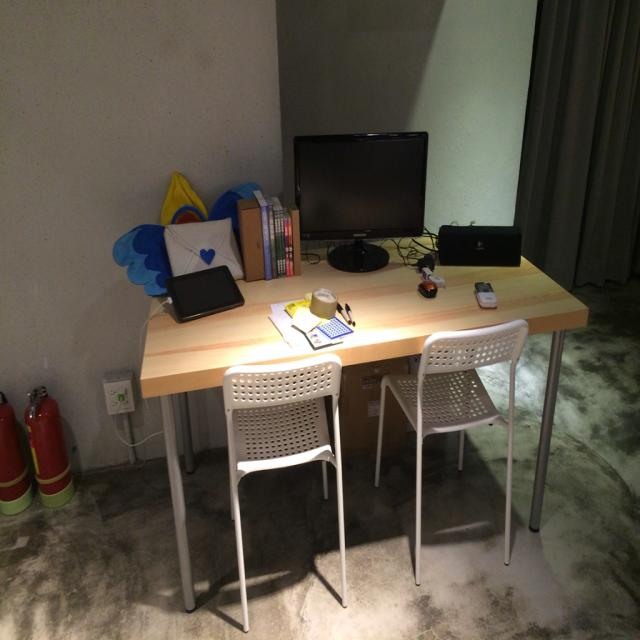chair: (373, 317, 528, 586), (224, 353, 348, 632)
desk: (138, 234, 586, 607)
tv: (293, 132, 429, 242)
